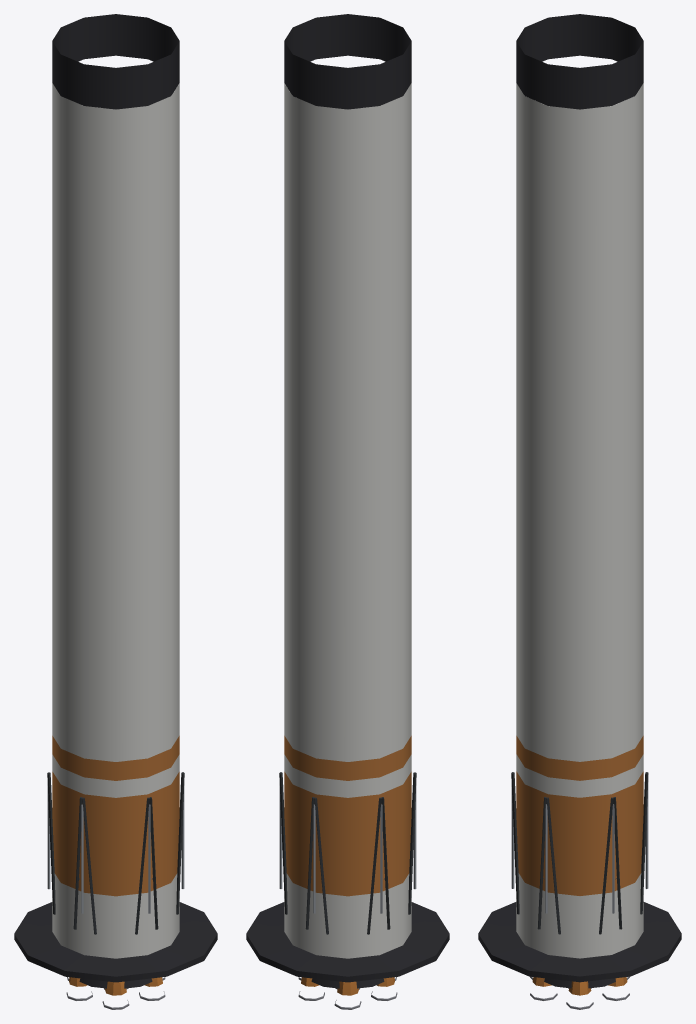
3 views of the same model, side by side, from view 1: azimuth 30°, elevation 25°; view 2: azimuth 150°, elevation 25°; view 3: azimuth 270°, elevation 25° (orthographic).
Visible parts, largest first — view 1: s1.hull, s1.dark, leg_2.dark, leg_1.dark, leg_0.dark, leg_3.dark, s1.bell; view 2: s1.hull, s1.dark, leg_3.dark, leg_4.dark, leg_5.dark, leg_2.dark, s1.bell; view 3: s1.hull, s1.dark, leg_0.dark, leg_5.dark, leg_1.dark, leg_4.dark, s1.bell.
Boxes of the visible parts, bbox=[...] form: s1.hull: bbox=[52, 83, 179, 958]; s1.dark: bbox=[14, 14, 217, 988]; leg_2.dark: bbox=[73, 797, 96, 934]; leg_1.dark: bbox=[135, 797, 158, 934]; leg_0.dark: bbox=[176, 772, 184, 914]; leg_3.dark: bbox=[47, 772, 55, 914]; s1.bell: bbox=[69, 977, 162, 995]; s1.hull: bbox=[284, 83, 411, 958]; s1.dark: bbox=[246, 14, 449, 988]; leg_3.dark: bbox=[367, 797, 390, 934]; leg_4.dark: bbox=[305, 797, 328, 934]; leg_5.dark: bbox=[279, 772, 287, 914]; leg_2.dark: bbox=[408, 772, 416, 914]; s1.bell: bbox=[301, 977, 394, 995]; s1.hull: bbox=[516, 83, 643, 958]; s1.dark: bbox=[478, 14, 681, 988]; leg_0.dark: bbox=[537, 797, 560, 934]; leg_5.dark: bbox=[599, 797, 622, 934]; leg_1.dark: bbox=[511, 772, 519, 914]; leg_4.dark: bbox=[640, 772, 648, 914]; s1.bell: bbox=[532, 977, 627, 995].
Size of the model in its own units: 11.2 by 57.42 by 11.2.
